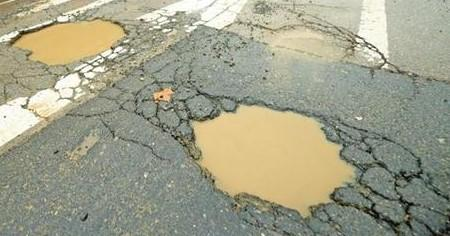alligator-crack: (54, 9, 209, 143), (335, 124, 444, 236)
pothole: (180, 94, 358, 210), (230, 13, 403, 80), (8, 14, 129, 70)
